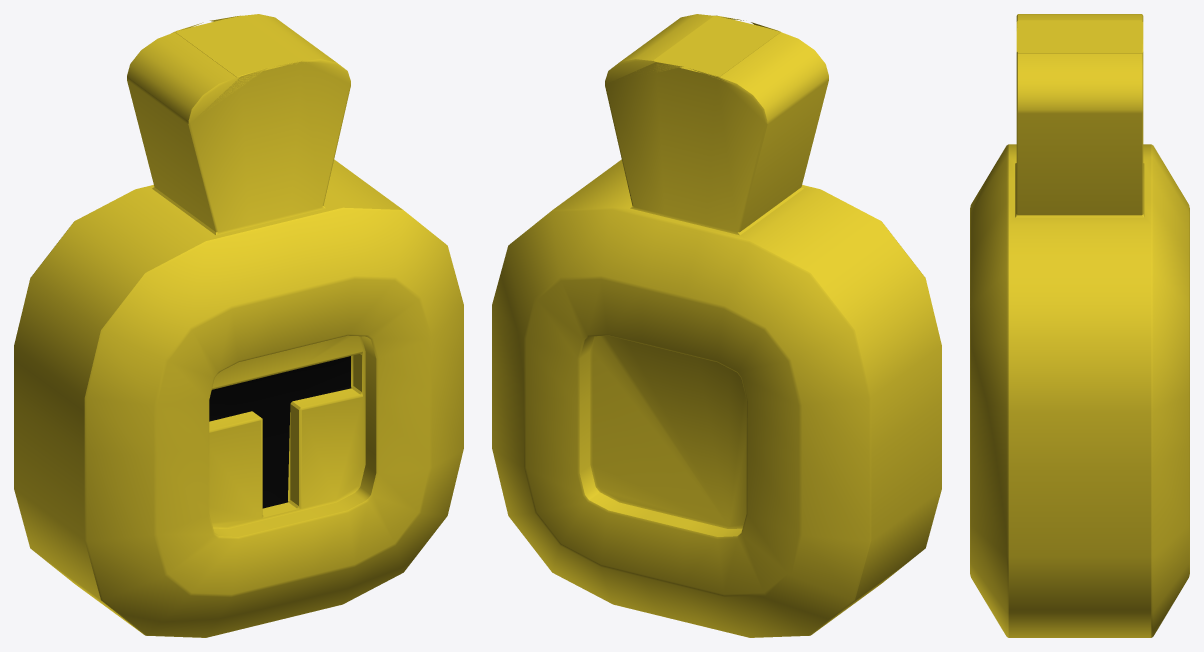
File: LOCK.fbx
3 renders of one model, left to right at view 1: azimuth 30°, elevation 25°; view 2: azimuth 150°, elevation 25°; view 3: azimuth 270°, elevation 25°, orthographic.
Parts seen in each view (by area): view 1: Lock; view 2: Lock; view 3: Lock.
Part boxes in pixels (x1=…): Lock: x1=14, y1=14, x2=463, y2=637; Lock: x1=492, y1=14, x2=941, y2=637; Lock: x1=970, y1=14, x2=1189, y2=637.
Size of the model in its own units: 15.1 by 7.51 by 20.96.
